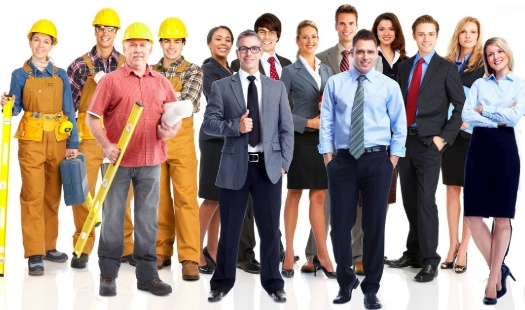none: (349, 29, 378, 73), (253, 11, 282, 53), (482, 36, 513, 74), (292, 18, 322, 57), (411, 13, 440, 53), (332, 3, 360, 44), (372, 11, 401, 49), (235, 30, 262, 70), (454, 14, 482, 51), (205, 22, 233, 58)
yellow: (120, 21, 154, 68), (156, 16, 189, 61), (26, 19, 61, 59), (91, 7, 120, 49)
